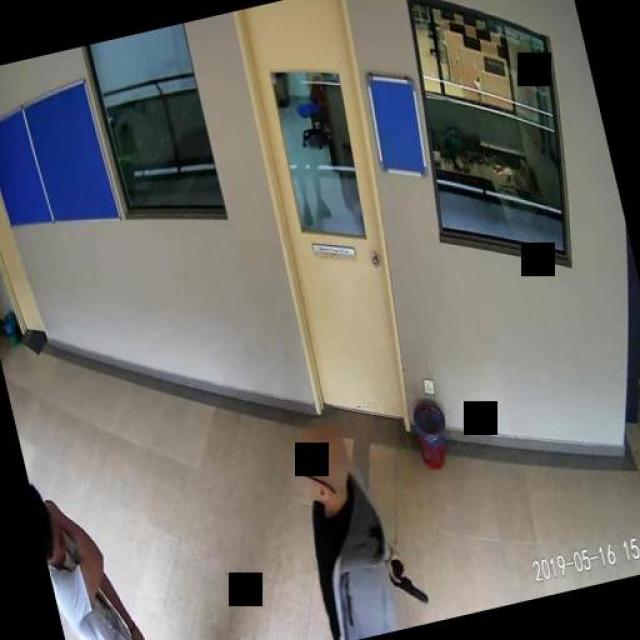gun: (384, 548, 428, 608)
